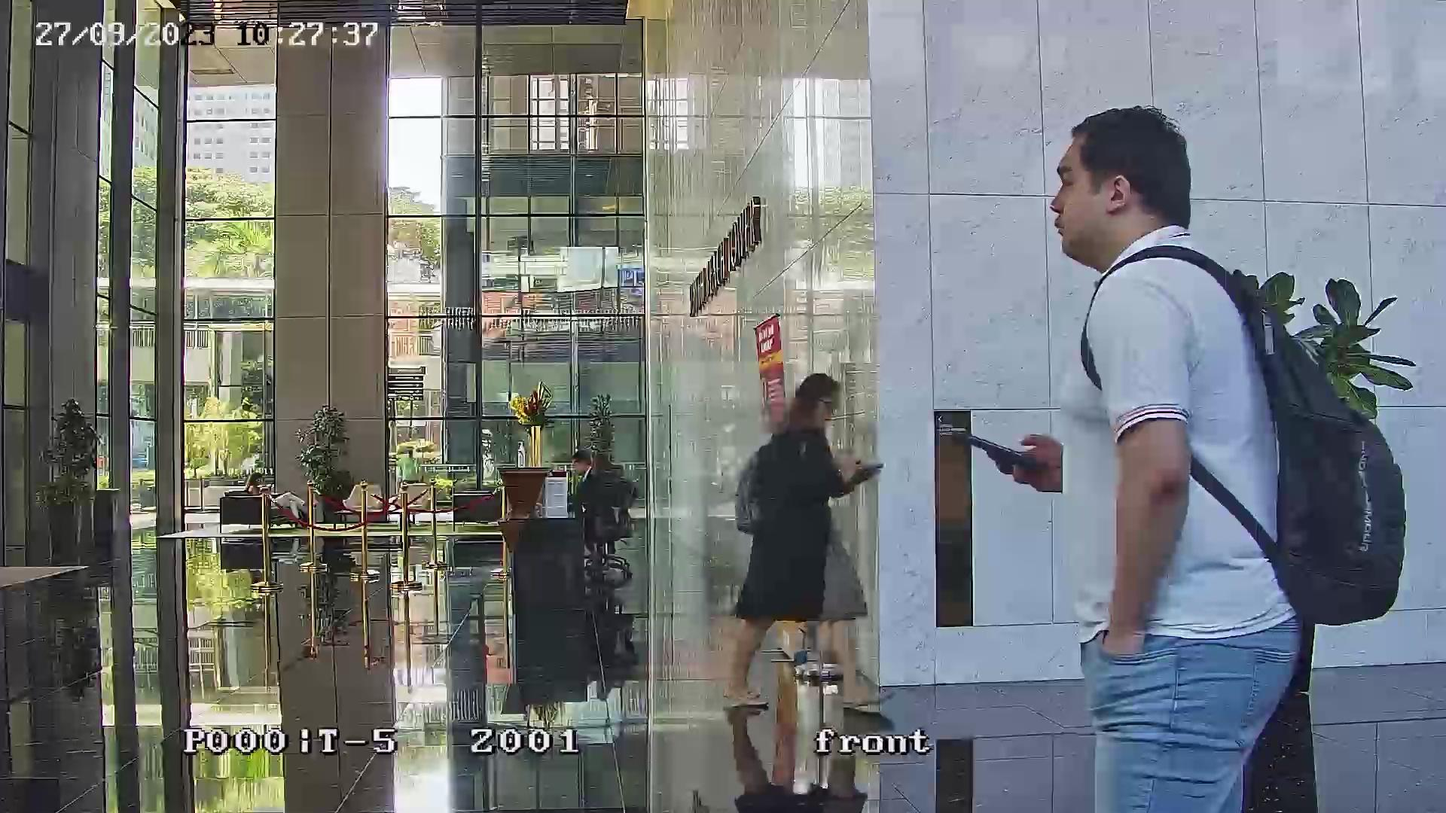person: (1016, 106, 1316, 802), (721, 373, 883, 711), (566, 448, 614, 537)
